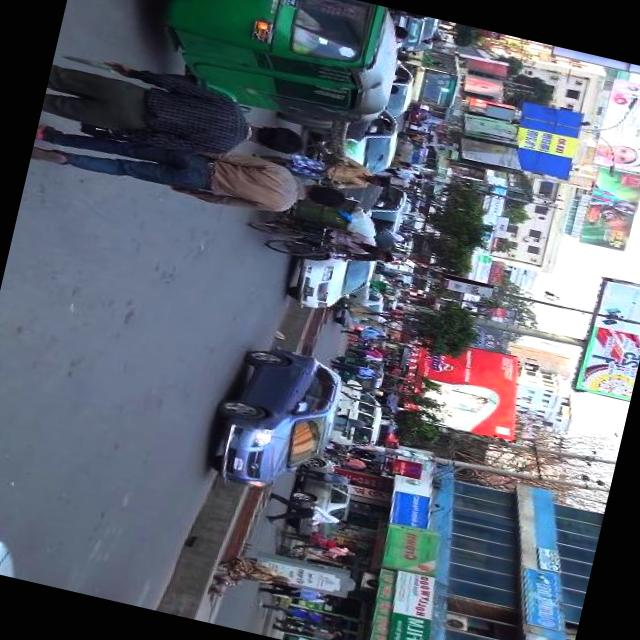bus: (397, 42, 467, 118)
car: (200, 335, 349, 508), (278, 241, 377, 324), (280, 450, 362, 548), (404, 102, 431, 127)
motorcycle: (98, 0, 409, 145), (330, 349, 390, 394), (368, 278, 403, 316)
truck: (244, 179, 390, 260), (321, 375, 390, 455), (350, 178, 409, 248)
